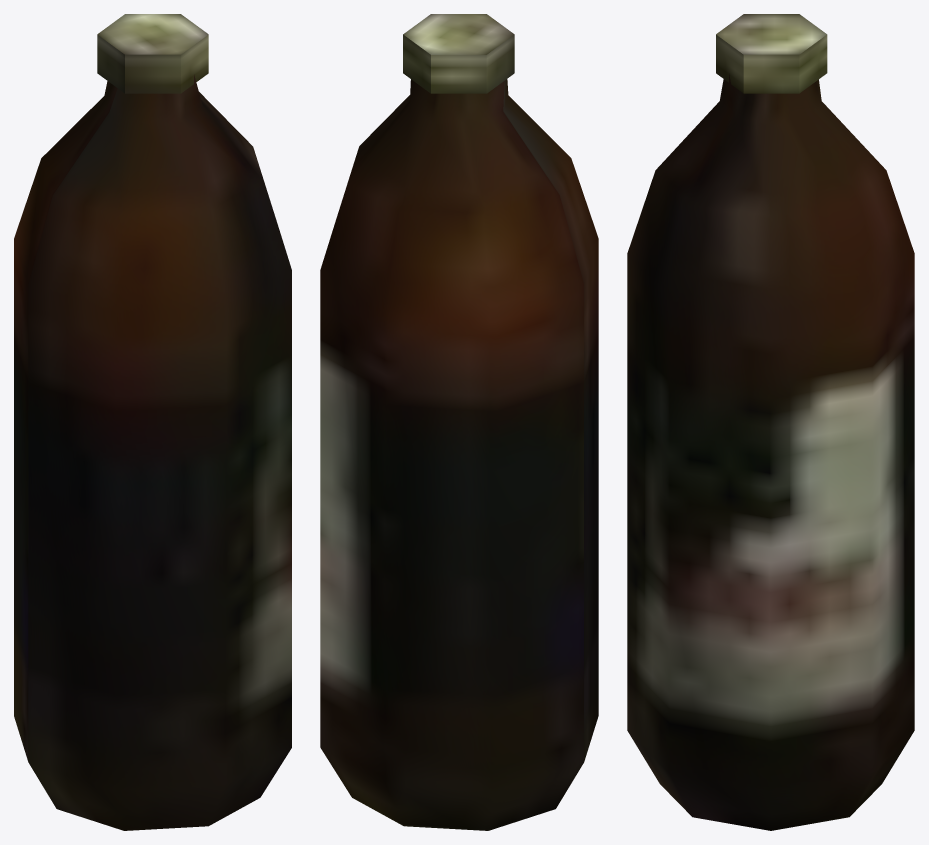
The model's file is garbage_glassbottle001a.glb.
The picture shows the model from 3 angles, left to right: view 1: azimuth 30°, elevation 25°; view 2: azimuth 150°, elevation 25°; view 3: azimuth 270°, elevation 25°; orthographic projection.
Visible parts, largest first — view 1: 0_garbage001a_01; view 2: 0_garbage001a_01; view 3: 0_garbage001a_01.
Boxes of the visible parts, x1,y1,x2,y2 form: 0_garbage001a_01: (14,14,291,830); 0_garbage001a_01: (320,14,598,830); 0_garbage001a_01: (627,14,914,830).
Bounding box in the file's own units: 0.1358 × 0.391 × 0.1358.
Materials: 1 (1 with a texture image).
